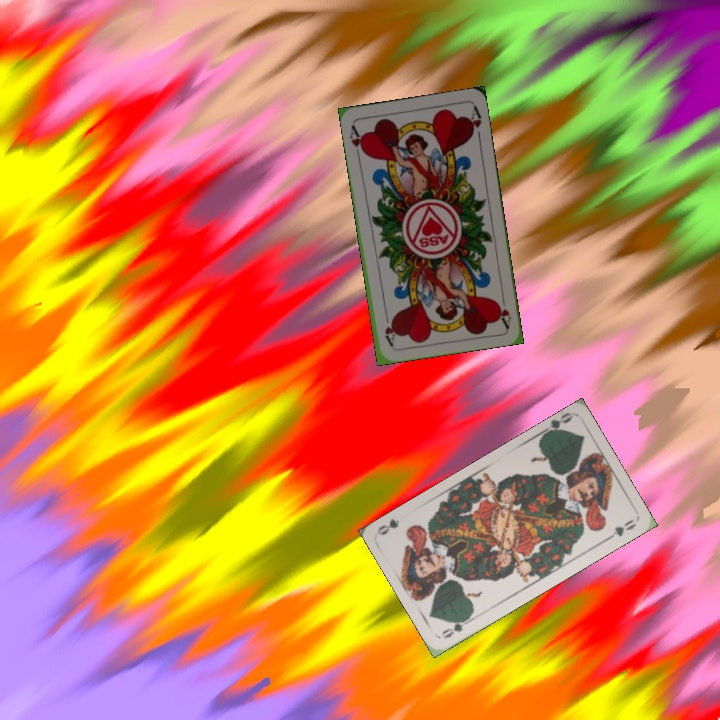GO: (537, 409, 575, 439), (437, 612, 475, 641)
HA: (346, 121, 368, 161), (493, 289, 513, 329)
